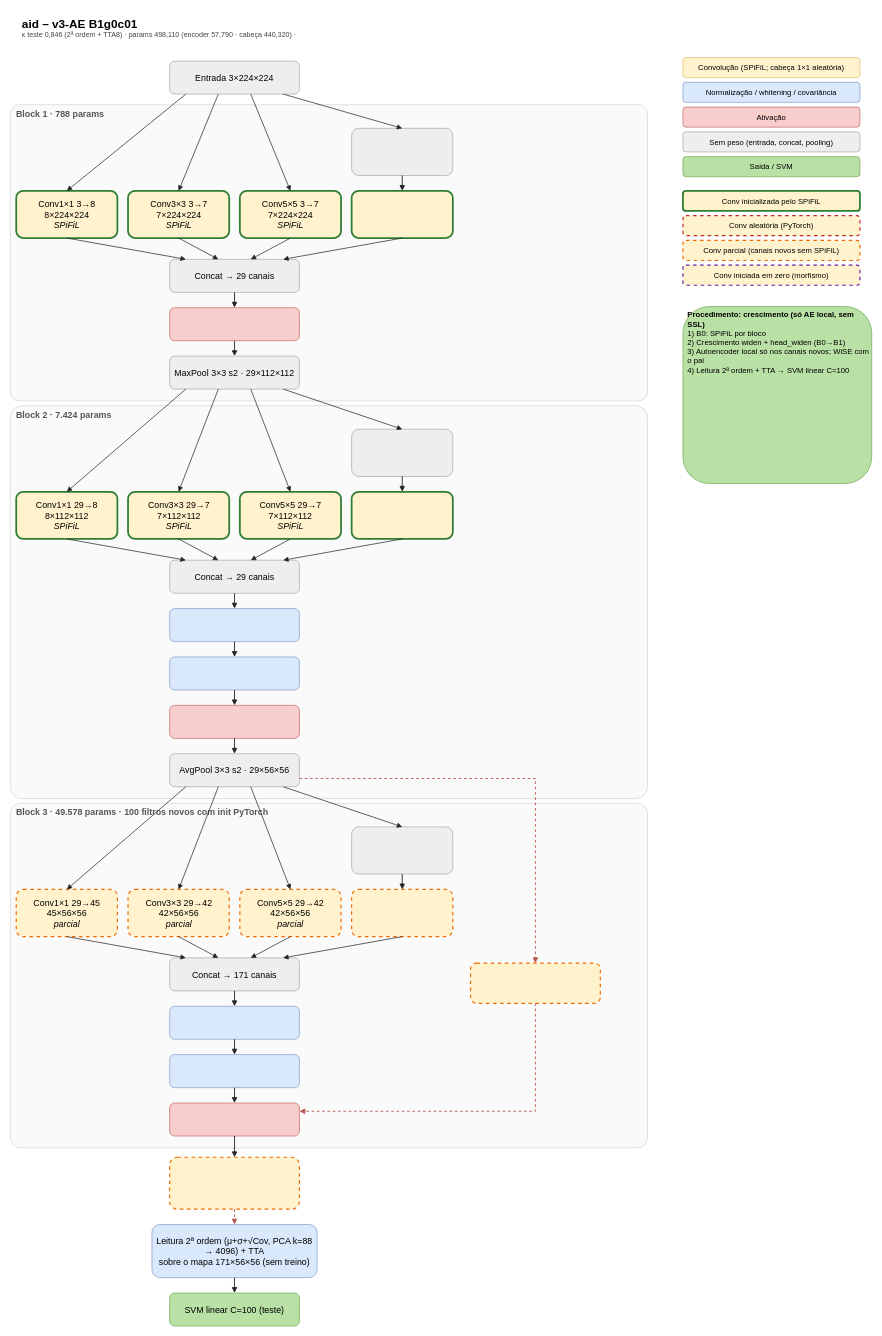
The diagram is 882 pixels wide and 1336 high, and some of its shapes have lost their labels. Each missing label, with the centre of its shape:
"BatchNorm · 171×56×56 342 params" belongs at point 234,1022.
"BatchNorm · 29×112×112 58 params" belongs at point 234,625.
"Cabeça Conv1×1 171→2560 · 2560×56×56 440.320 params parcial" belongs at point 234,1183.
"Conv1×1 29→42 42×56×56 parcial" belongs at point 402,913.
"Conv1×1 29→7 7×112×112 SPiFiL" belongs at point 401,515.
"Conv1×1 3→7 7×224×224 SPiFiL" belongs at point 401,214.
"MaxPool 3×3 s1 29×112×112" belongs at point 402,452.
"MaxPool 3×3 s1 29×56×56" belongs at point 402,850.
"MaxPool 3×3 s1 3×224×224" belongs at point 402,152.
"Residual Conv1×1 29→171 171×56×56 parcial" belongs at point 535,983.
"SELU · 29×112×112" belongs at point 234,721.
"SELU · 29×224×224" belongs at point 234,324.
"SiLU · 171×56×56" belongs at point 234,1119.
"ZCA · 171×56×56" belongs at point 234,1071.
"ZCA · 29×112×112" belongs at point 234,673.
